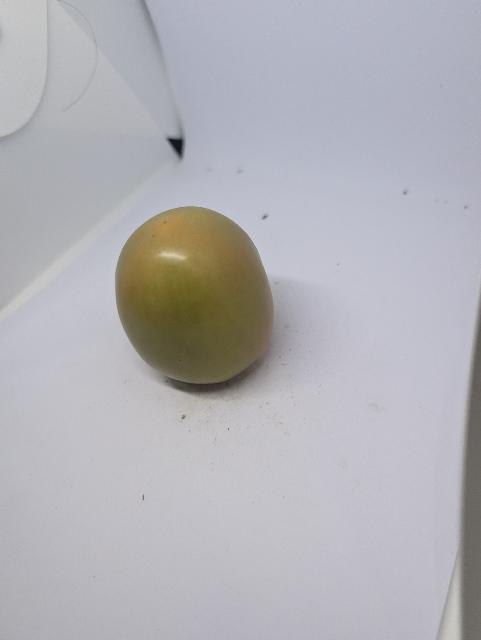breaker: (112, 203, 275, 383)
